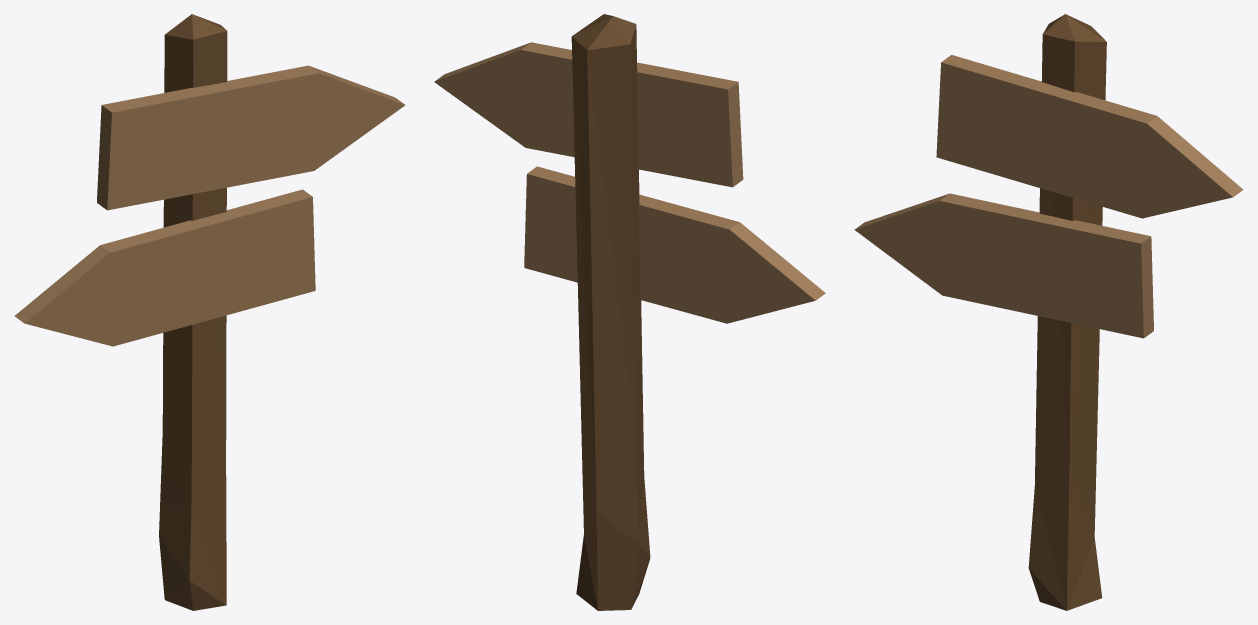
File: Pointer_03.fbx
3 renders of one model, left to right at view 1: azimuth 30°, elevation 25°; view 2: azimuth 150°, elevation 25°; view 3: azimuth 330°, elevation 25°, orthographic.
Visible parts, largest first — view 1: Pointer_03; view 2: Pointer_03; view 3: Pointer_03.
Boxes of the visible parts, <box> form: Pointer_03: <box>14,14,405,610</box>; Pointer_03: <box>434,14,825,610</box>; Pointer_03: <box>854,14,1243,610</box>.
Bounding box in the file's own units: 1.05 × 1.54 × 0.1918.
